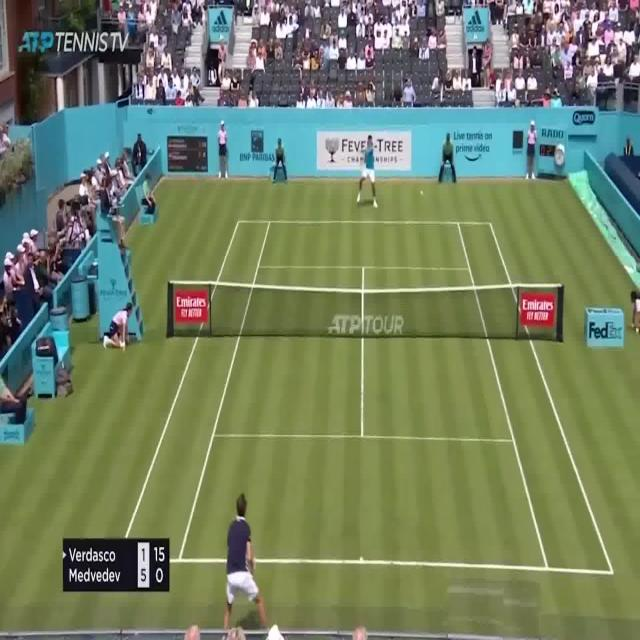bottom-dead-zone: (179, 433, 549, 570)
court: (117, 218, 614, 577)
left-doubles-alley: (118, 221, 270, 559)
left-service-box: (212, 265, 364, 436)
net: (164, 276, 566, 344)
right-doubles-alley: (457, 222, 614, 573)
right-service-box: (361, 266, 514, 441)
top-dead-zone: (257, 221, 471, 270)
